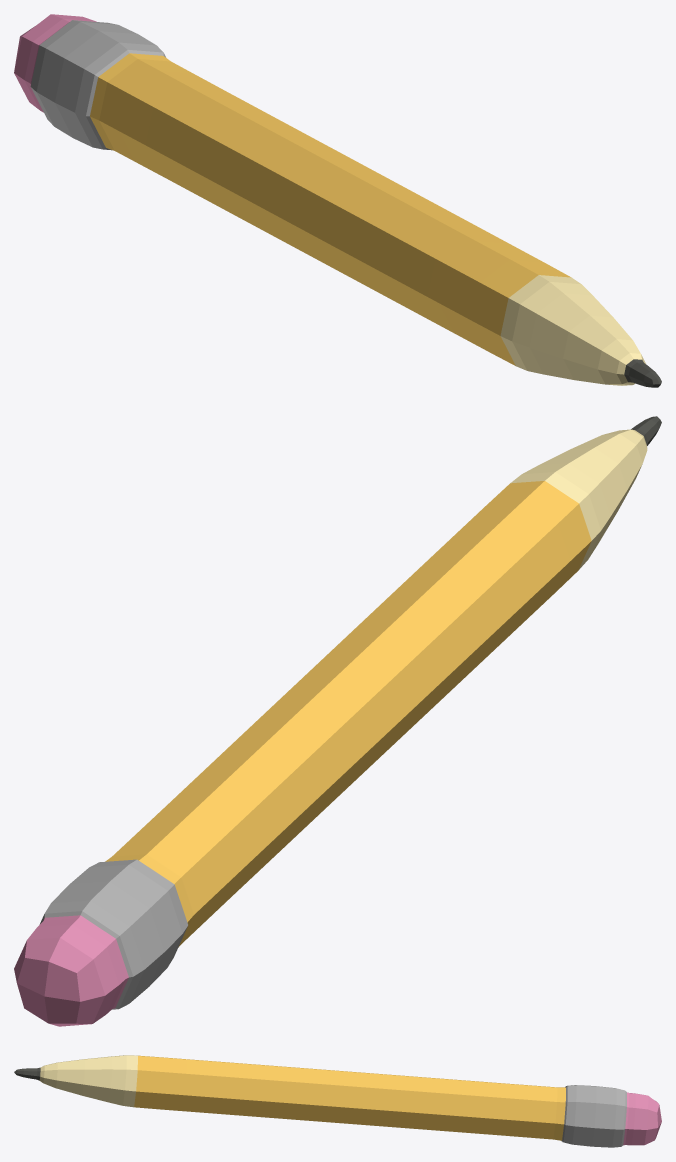
The model's file is pencil.fbx.
3 renders of one model, top to bottom at view 1: azimuth 30°, elevation 25°; view 2: azimuth 150°, elevation 25°; view 3: azimuth 270°, elevation 25°, orthographic. The views are drawn at different scales.
Parts seen in each view (by area): view 1: pencil; view 2: pencil; view 3: pencil.
Boxes of the visible parts, bbox=[...] form: pencil: bbox=[14, 14, 661, 387]; pencil: bbox=[14, 416, 661, 1026]; pencil: bbox=[14, 1055, 661, 1147].
Size of the model in its own units: 6.45 by 9.78 by 61.11.
